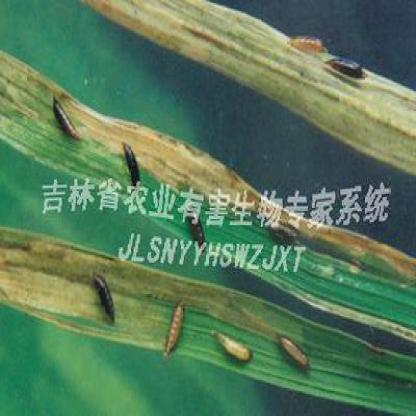whorl-maggot: (209, 318, 256, 369), (271, 326, 315, 376), (160, 291, 190, 361), (46, 96, 86, 148), (319, 47, 368, 86), (90, 268, 120, 328), (115, 138, 144, 178), (286, 32, 328, 56)
